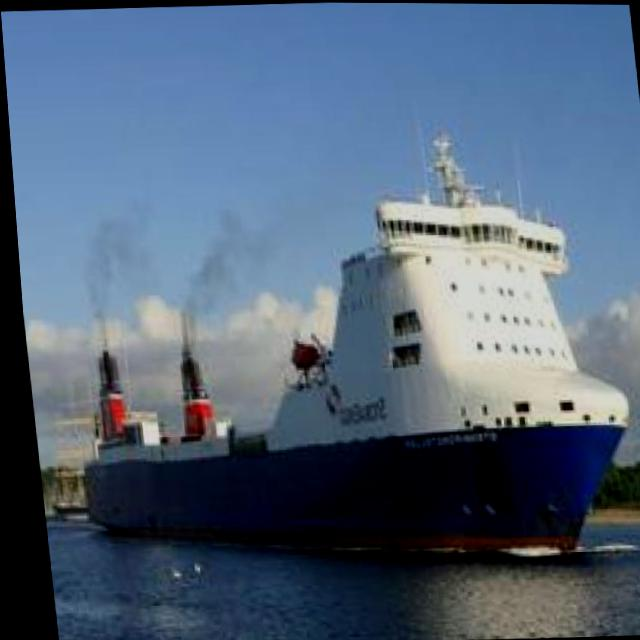ship2: (73, 128, 626, 561)
